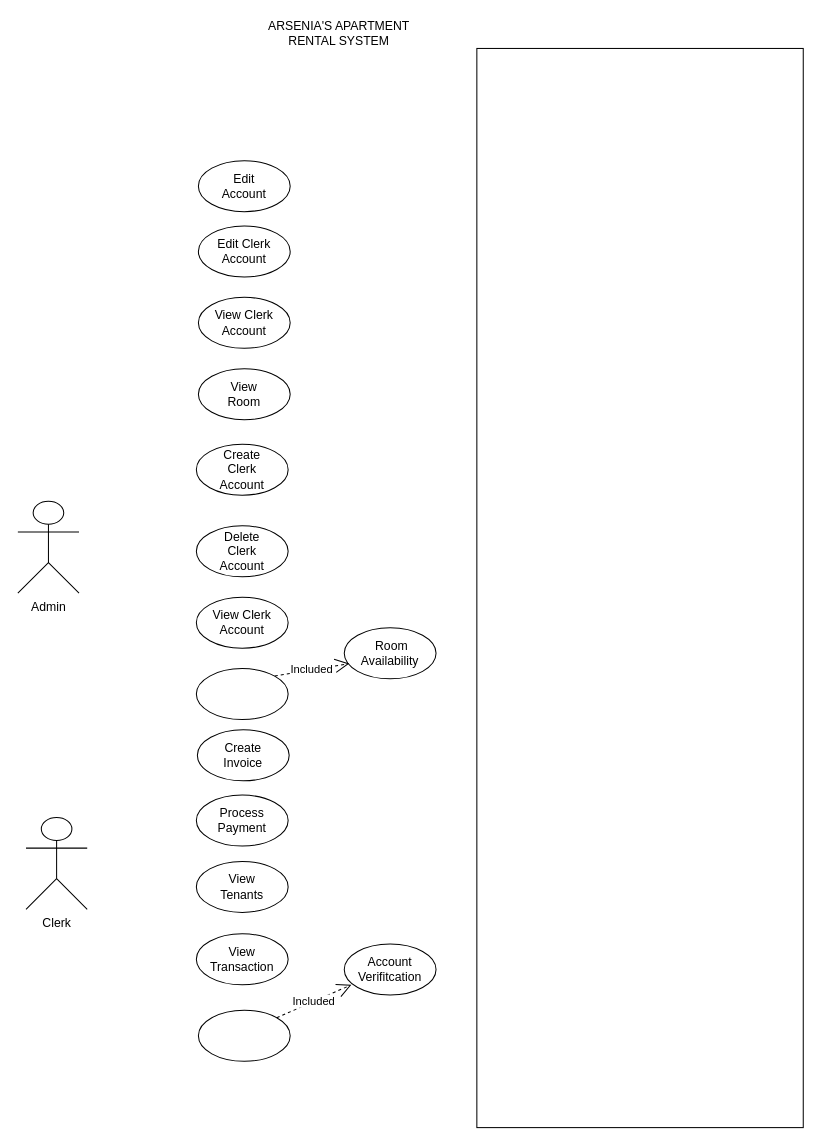
This 821x1145 diagram has some shape labels left out. Each missing label, with the centre of its shape:
"Appoint Room" goes at point 241,694.
"Login" goes at point 243,1035.
